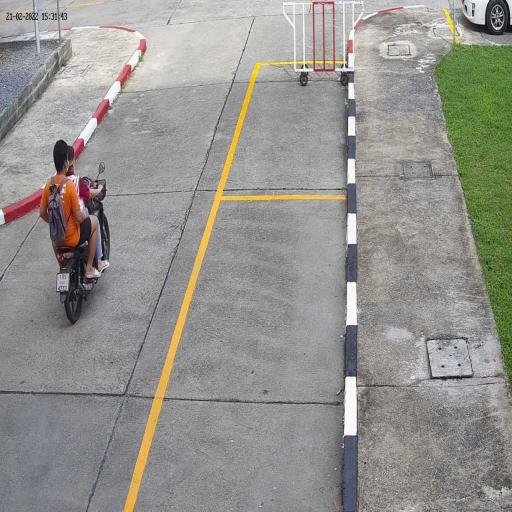motorcycle: (54, 212, 112, 326)
